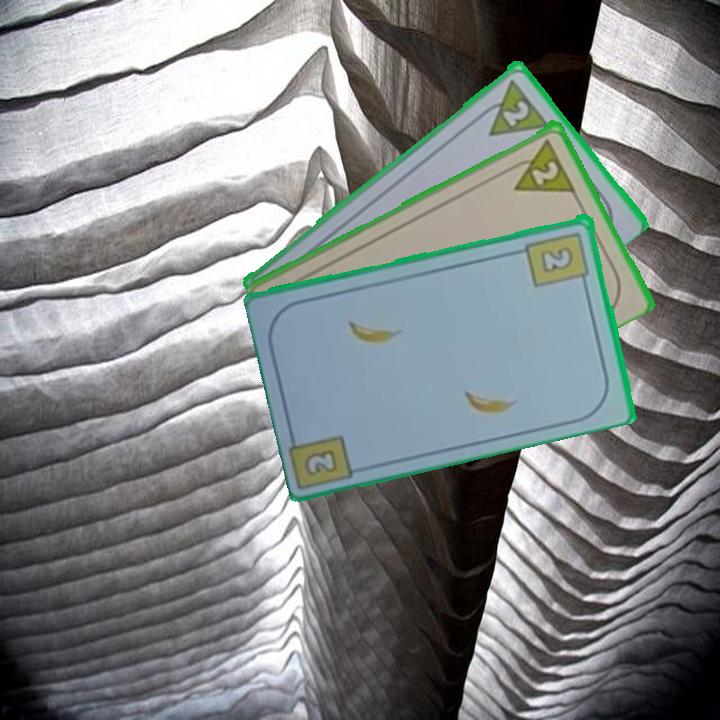2b: (523, 228, 592, 290), (300, 445, 341, 479)
2p: (499, 95, 533, 129), (528, 156, 562, 188)
